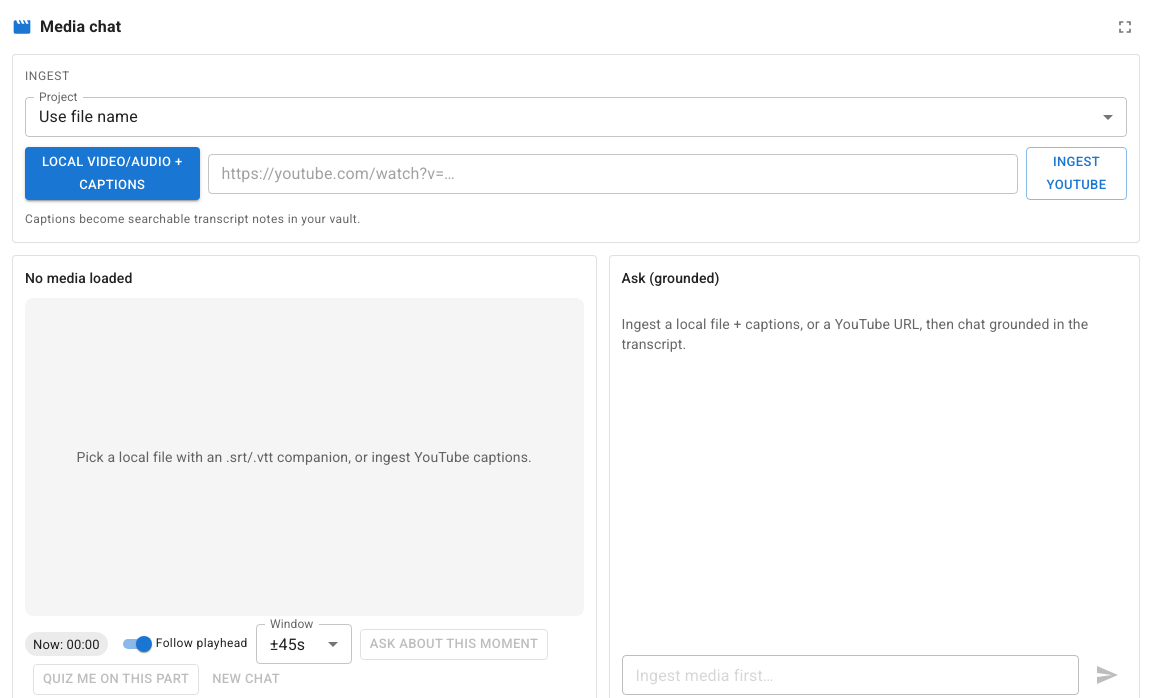
Test case: MediaChatView › switches voice
This screenshot has width=1152, height=698.
Type "https://youtube.com/watch?v=abc123" into the field with placeholder "https://youtube.com/watch?v=…".
click(613, 174); type("https://youtube.com/watch?v=abc123")  # box [208,154,1018,194]
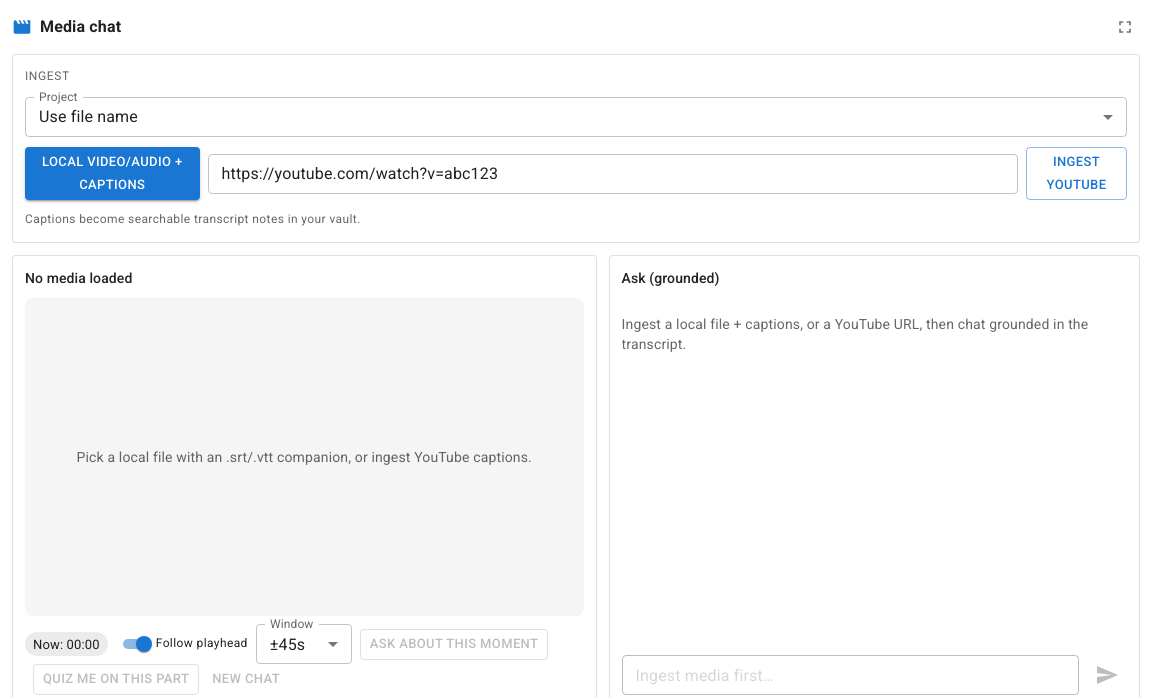
Click the button "Ingest YouTube".
click(1076, 174)  # box [1026,147,1127,200]
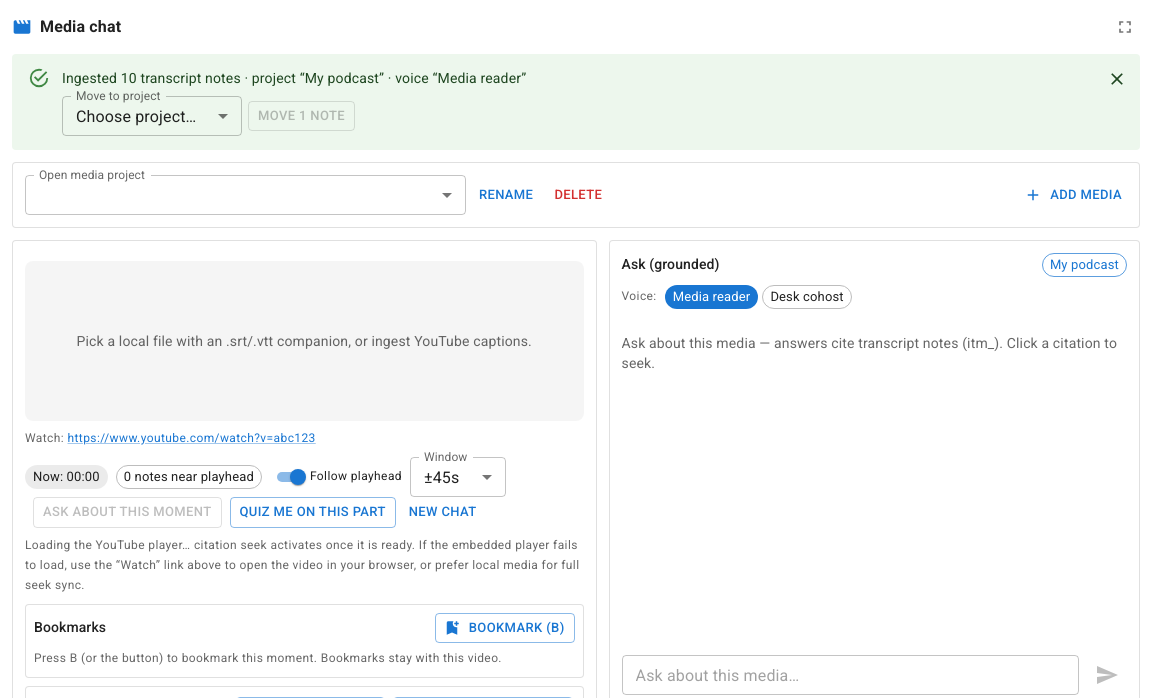
Check: the text "Ingested 10 transcript notes" is shown, box [62,70,526,86]
Click the button "Desk cohost".
click(807, 297)  # box [762,285,852,309]
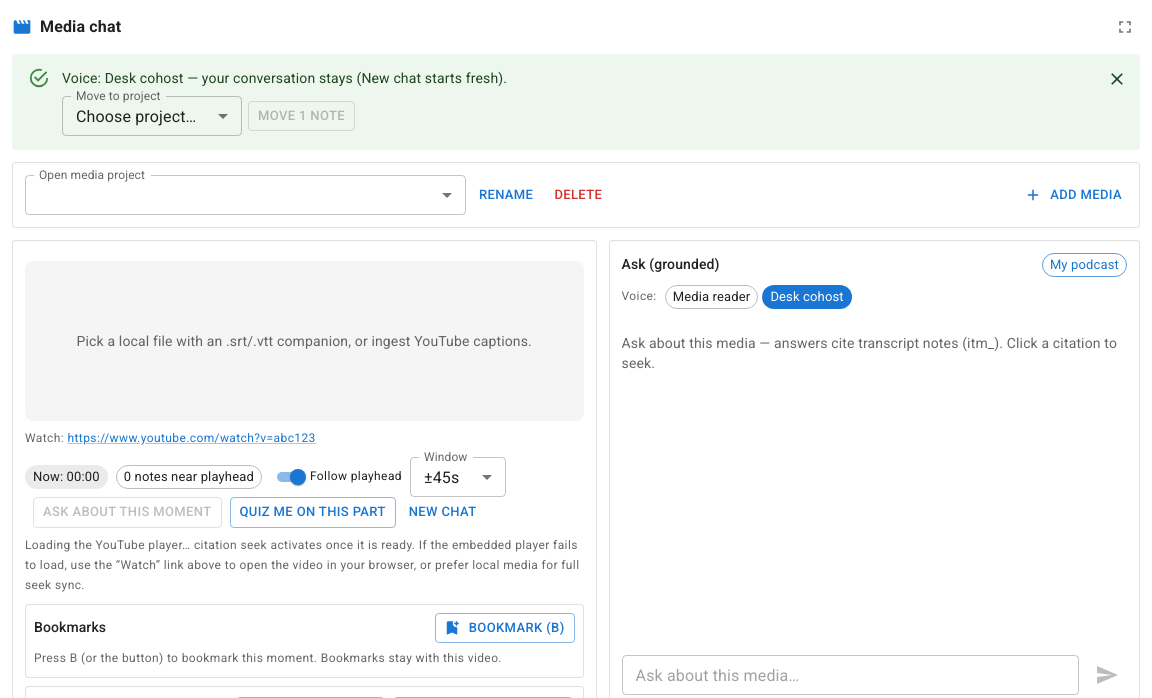
Check: the text "Voice: Desk cohost" is shown, box [62,70,507,86]
